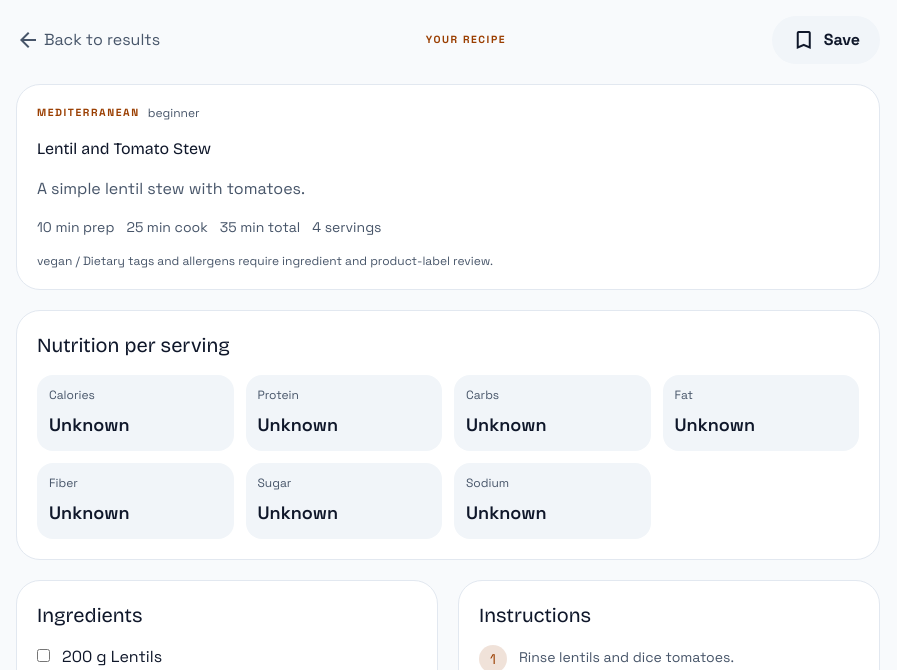
Test: signed-out Save explains sign-in and never writes local or cloud data
Click the button with aria-label "Save recipe" at coordinates (826, 40), box 772,16 -> 880,64
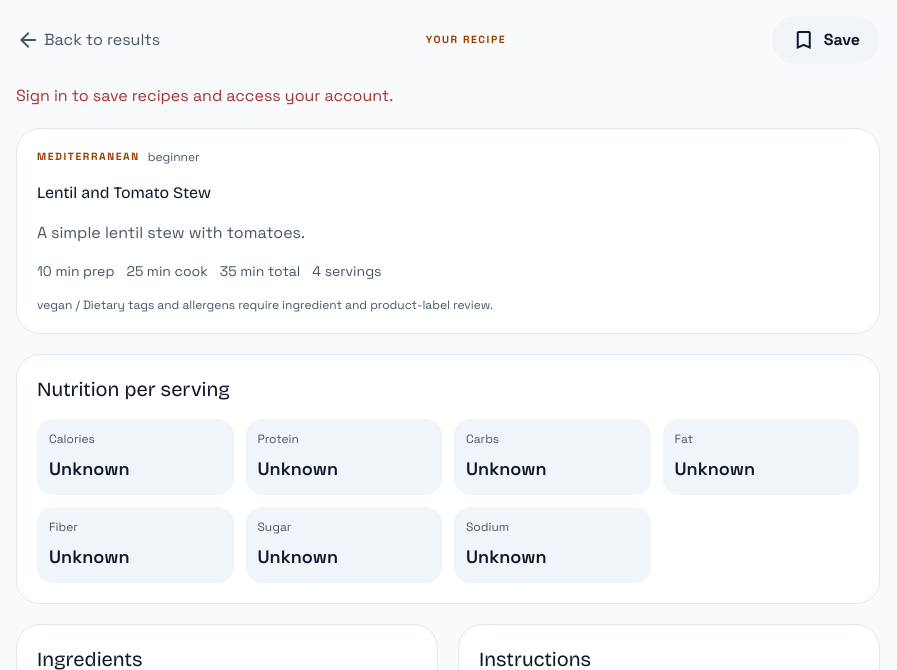
Check: the message shows "Sign in to save", box 16,85 -> 393,106
